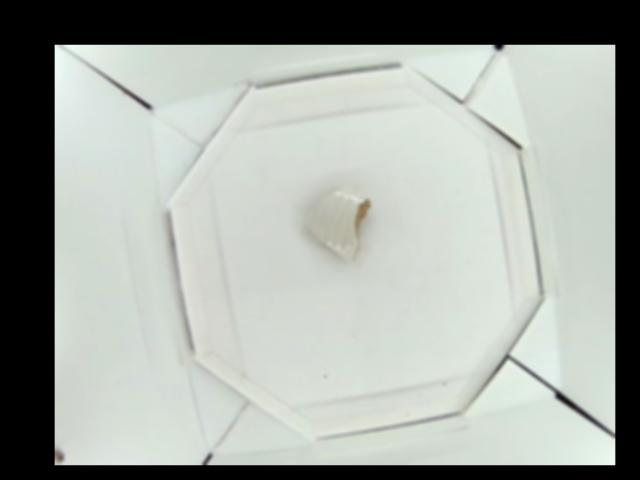China: (303, 182, 369, 258)
